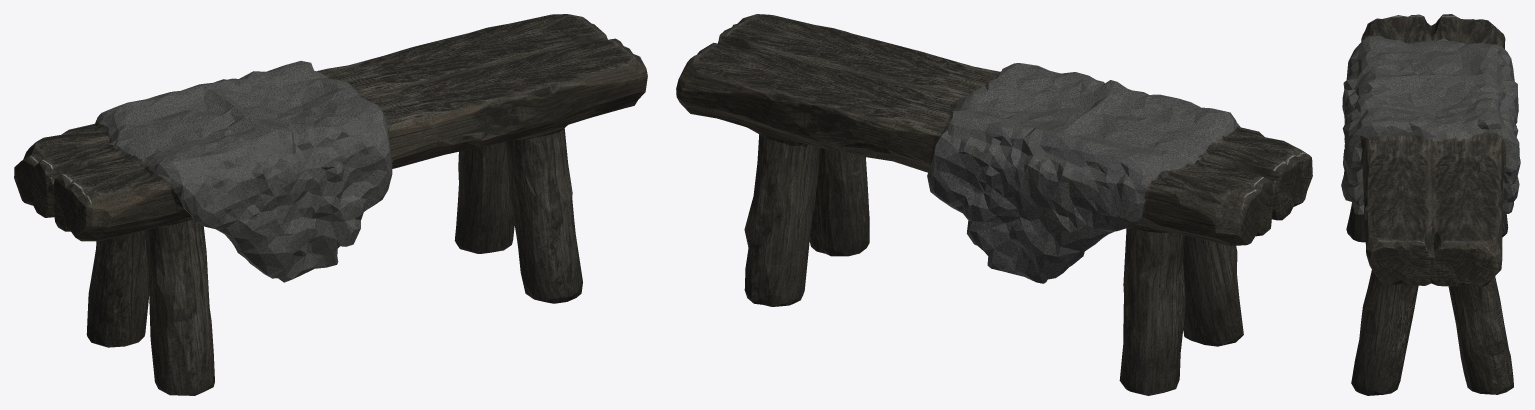
File: log_bench.glb
3 renders of one model, left to right at view 1: azimuth 30°, elevation 25°; view 2: azimuth 150°, elevation 25°; view 3: azimuth 270°, elevation 25°, orthographic. The views are drawn at different scales.
Visible parts, largest first — view 1: lo; view 2: lo; view 3: lo.
Boxes of the visible parts, x1,y1,x2,y2 form: lo: (14, 14, 647, 395); lo: (676, 14, 1312, 395); lo: (1341, 14, 1520, 395).
Bounding box in the file's own units: 1.7 × 0.6679 × 0.5543.
Materials: 1 (1 with a texture image).
